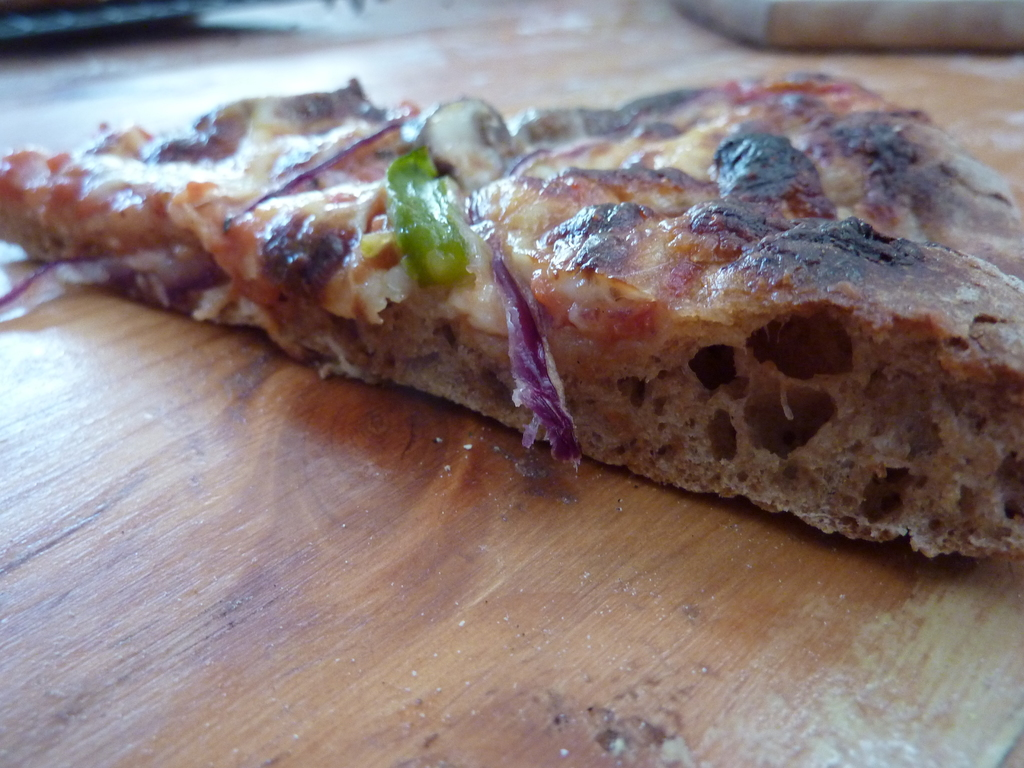Pizza: (30, 81, 1024, 586)
